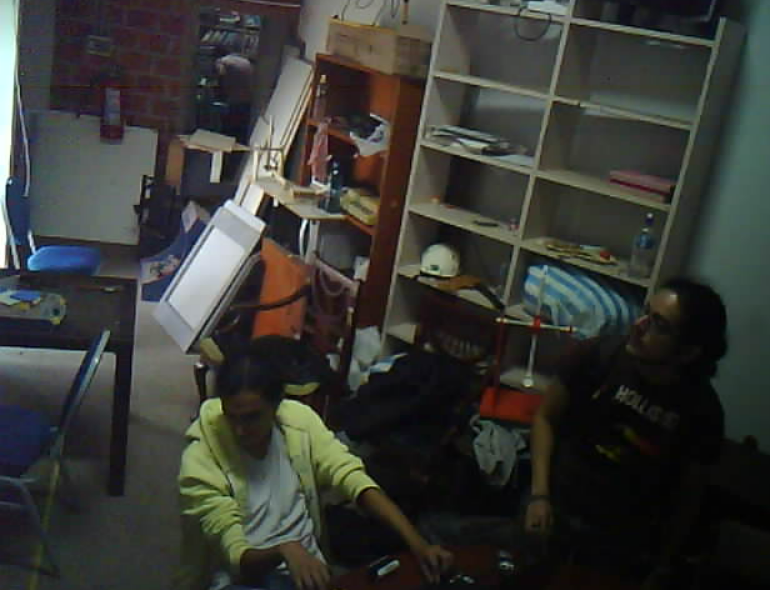person: (499, 251, 739, 590), (156, 339, 461, 590), (202, 34, 281, 141)
